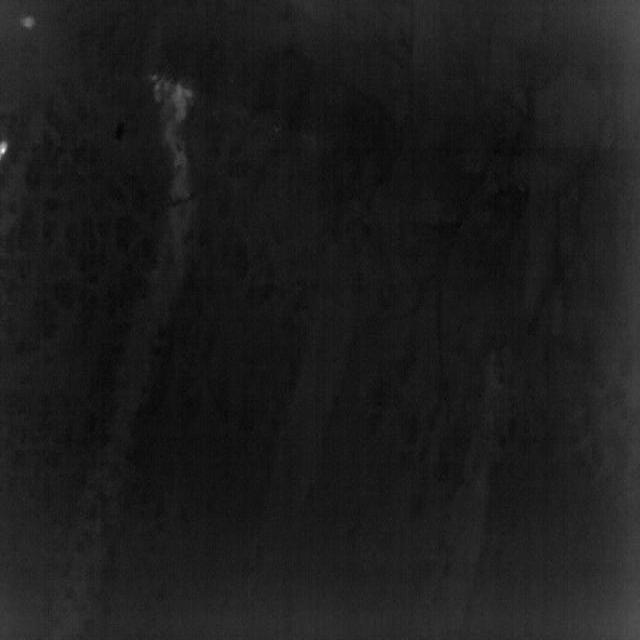deer: (0, 140, 8, 160)
